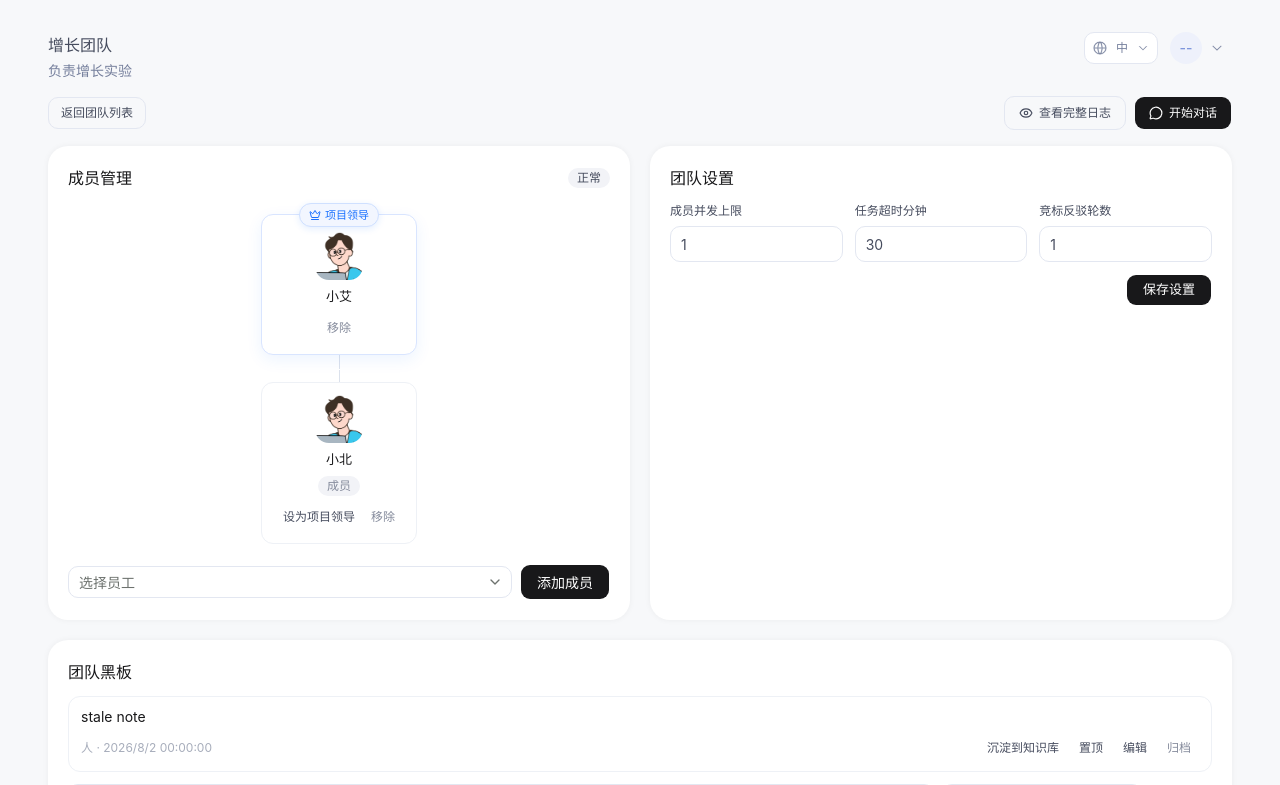
Test: TeamDetailPage › archives a blackboard entry after confirmation
Expected: the text "stale note" is shown, [81,708,146,725]
Click the button "归档": [1179, 748] box [1159,735,1199,761]
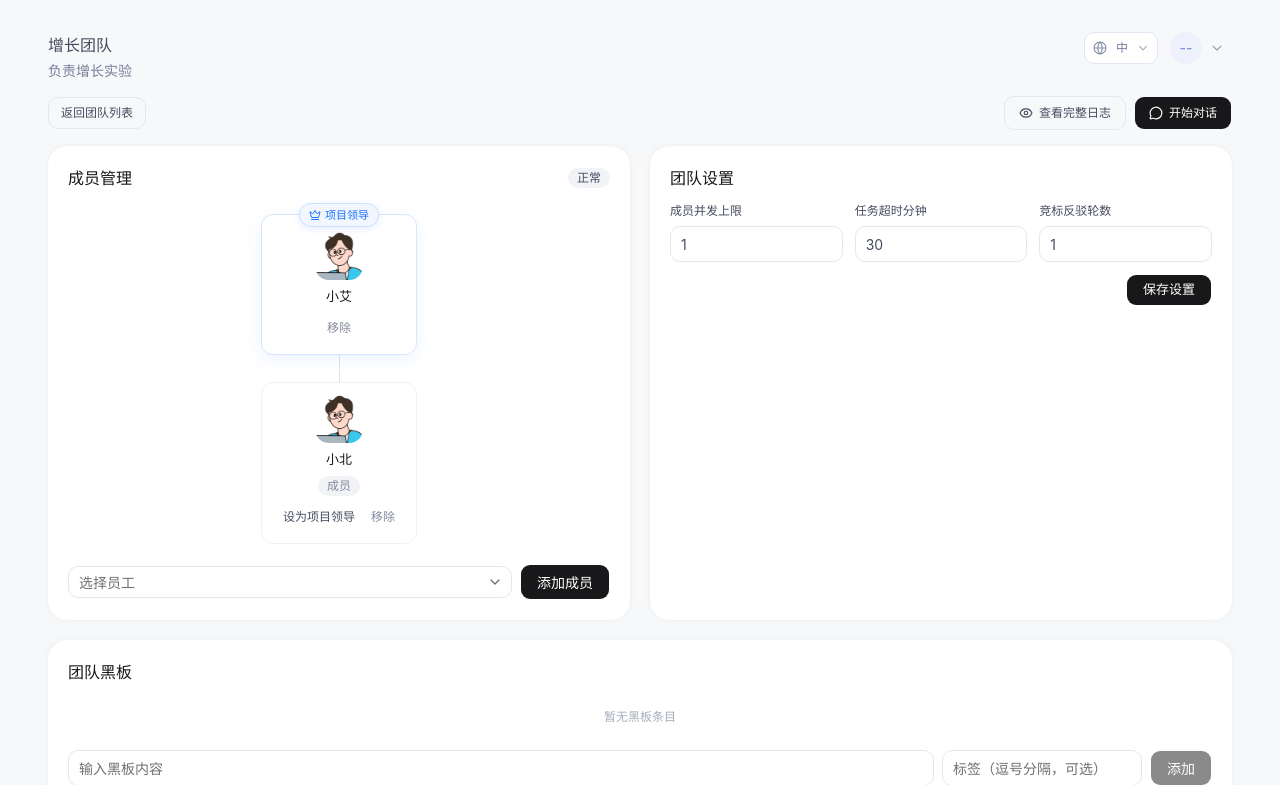
Expected: the text "stale note" is gone
Expected: the text "暂无黑板条目" is shown, [604,709,676,724]
